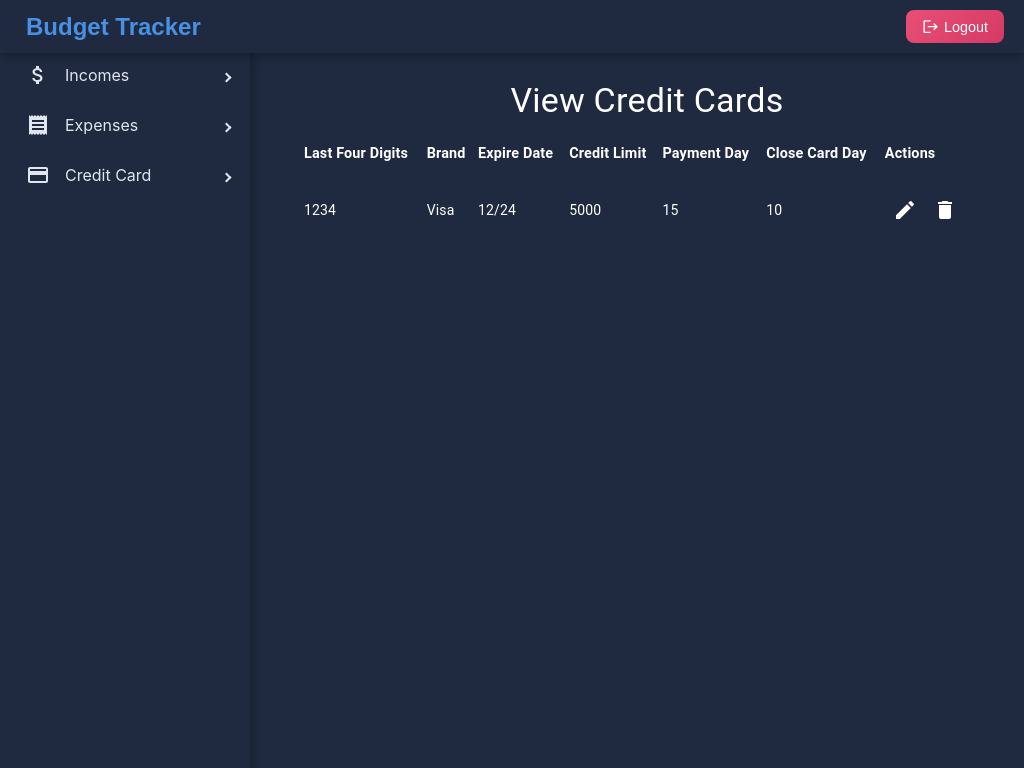
Scenario: ViewCreditCard View › handles error when deleting a credit card
The width and height of the screenshot is (1024, 768).
Expected: the text "1234" is shown, [304,174,427,246]
// Click on the delete button by targeting the `data-testid` of the `DeleteIcon`
Click the button with test id "DeleteIcon". click: (945, 210)
box: [925,190,965,230]
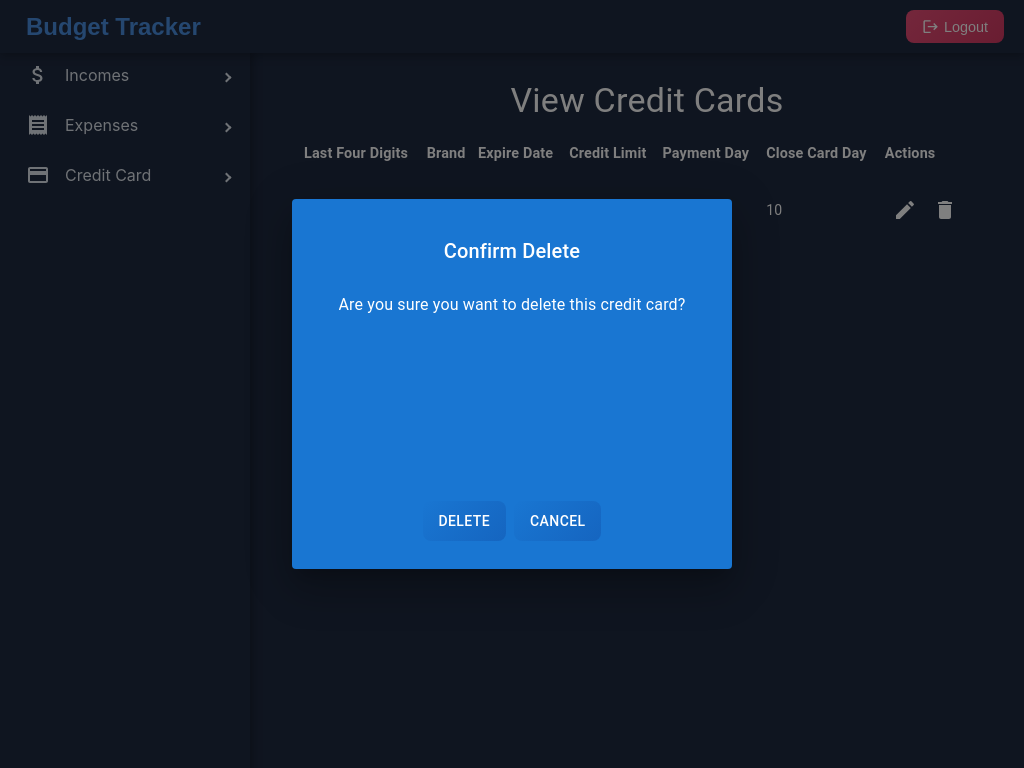
Expected: the text "Are you sure you want to delete this credit card?" is shown, [338,293,685,317]
// Click delete in the dialog
Click the button "Delete". click: (464, 521)
box: [422,501,506,541]
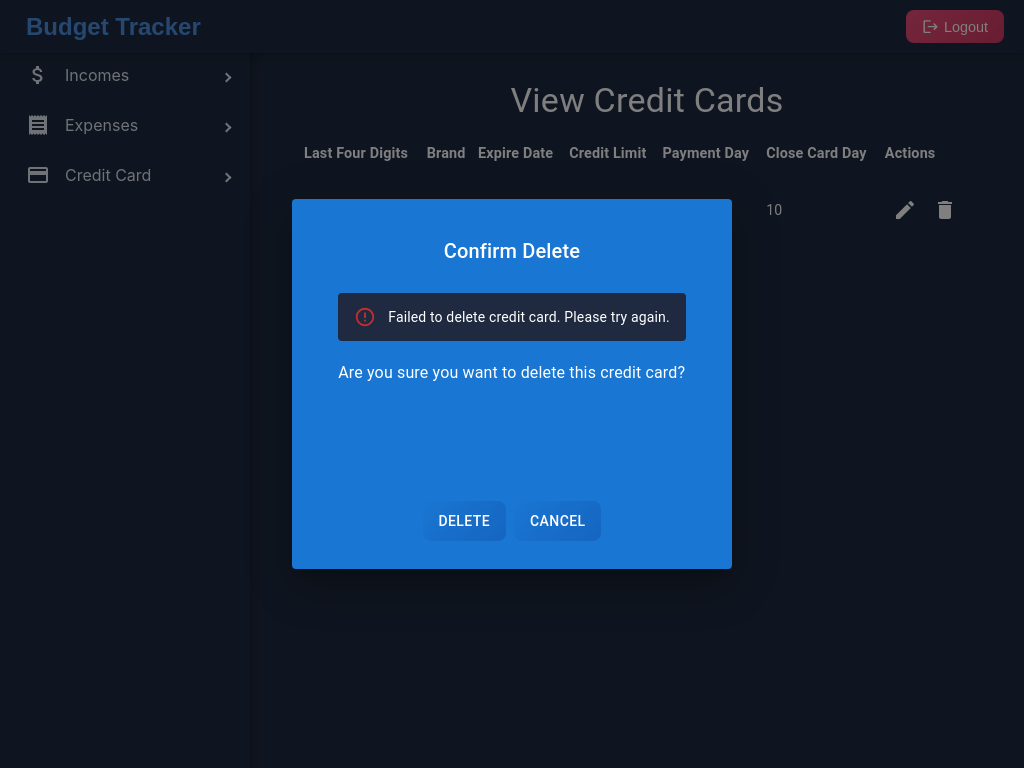
Expected: the text "Failed to delete credit card. Please try again." is shown, [388,309,670,325]
